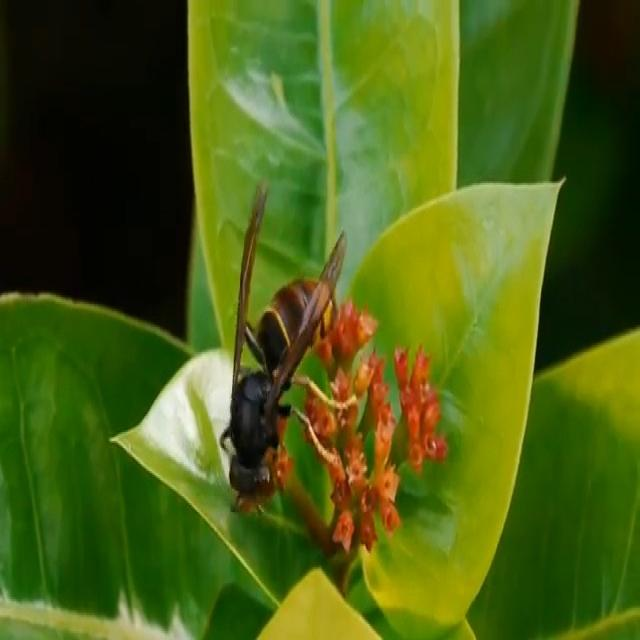Hornets: (218, 176, 358, 523)
